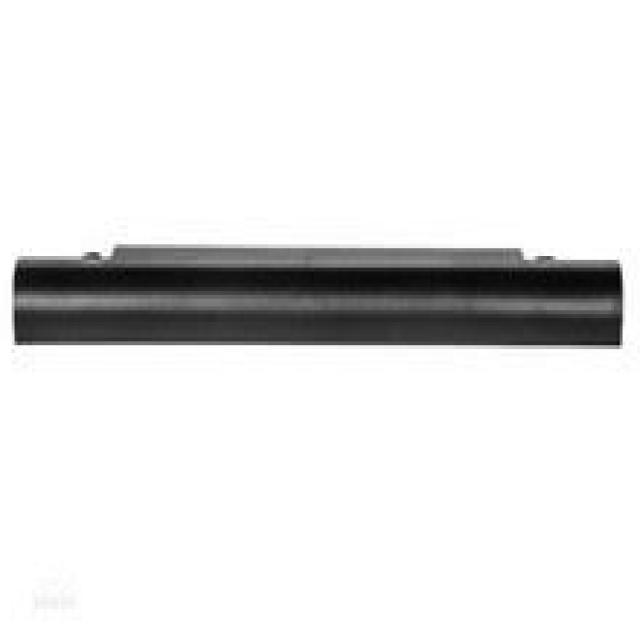battery: (12, 238, 623, 352)
